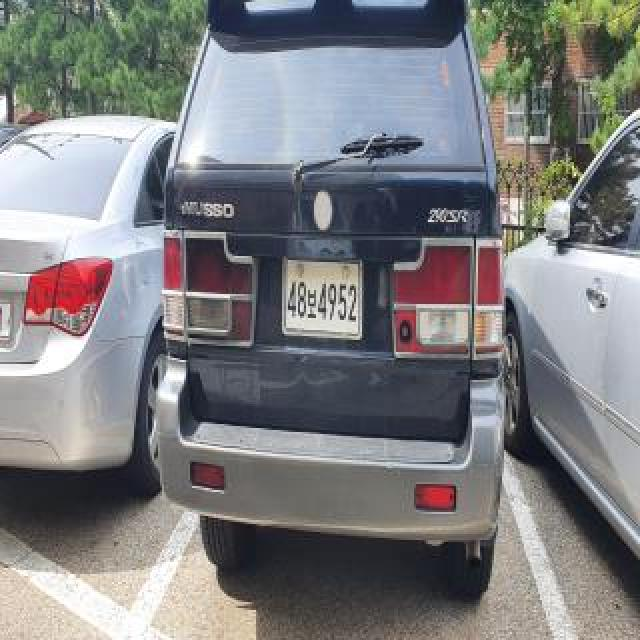car: (147, 0, 524, 593)
illegal_plate: (285, 258, 362, 342)
